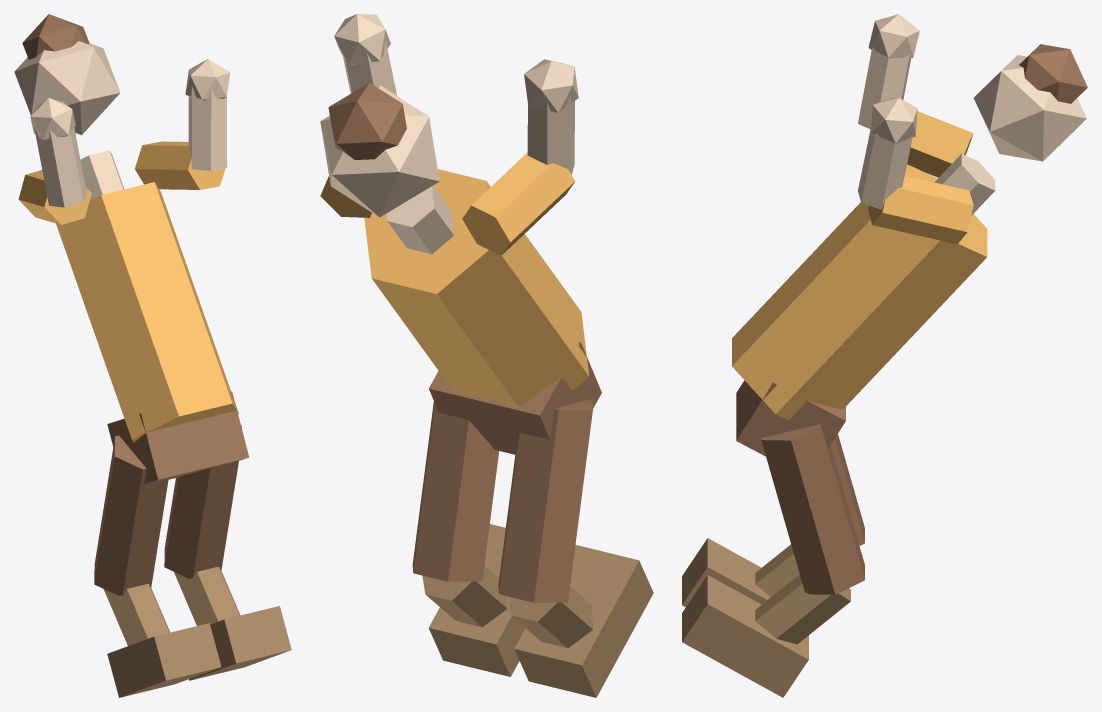
Rendered from pose_dodge_roll_11.glb.
3 views of the same model, side by side, from view 1: azimuth 30°, elevation 25°; view 2: azimuth 150°, elevation 25°; view 3: azimuth 270°, elevation 25° (orthographic). The views are drawn at different scales.
Visible parts, largest first — view 1: pose; view 2: pose; view 3: pose.
Part boxes in pixels (x1,y1,x2,y2): pose: (14, 14, 291, 697); pose: (320, 14, 653, 697); pose: (682, 14, 1087, 697).
Bounding box in the file's own units: 0.4876 × 1.38 × 0.8227.
